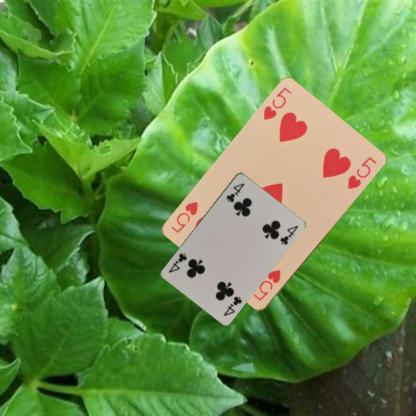4c: (224, 180, 246, 204), (221, 294, 243, 317)
5h: (250, 267, 283, 303), (261, 85, 293, 122)
